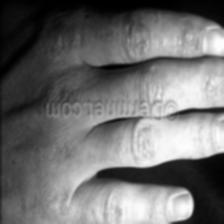Unclassified: (122, 20, 149, 56), (55, 139, 70, 163)
